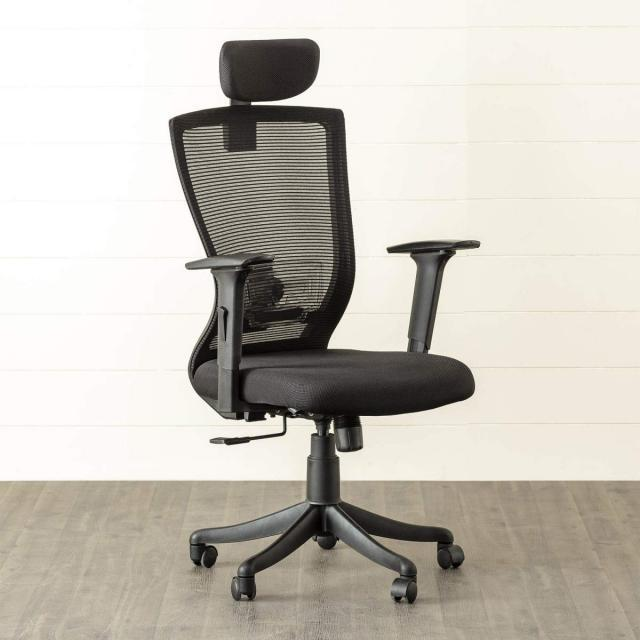chair: (117, 5, 506, 616)
